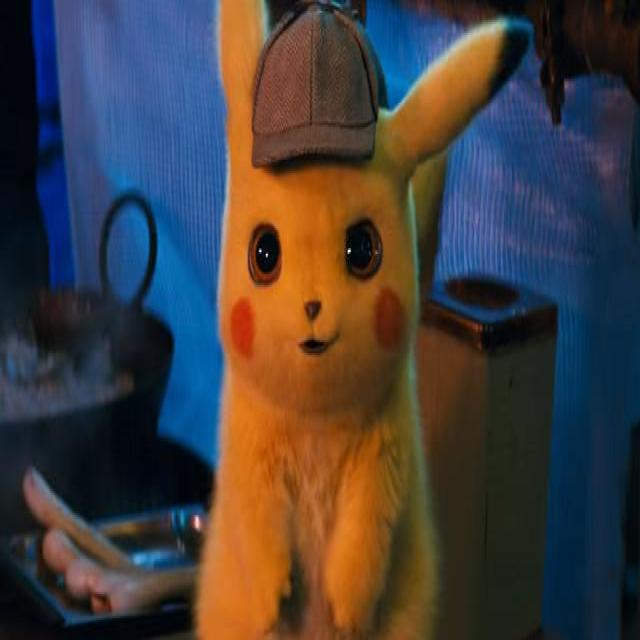pikachu: (196, 0, 532, 631)
